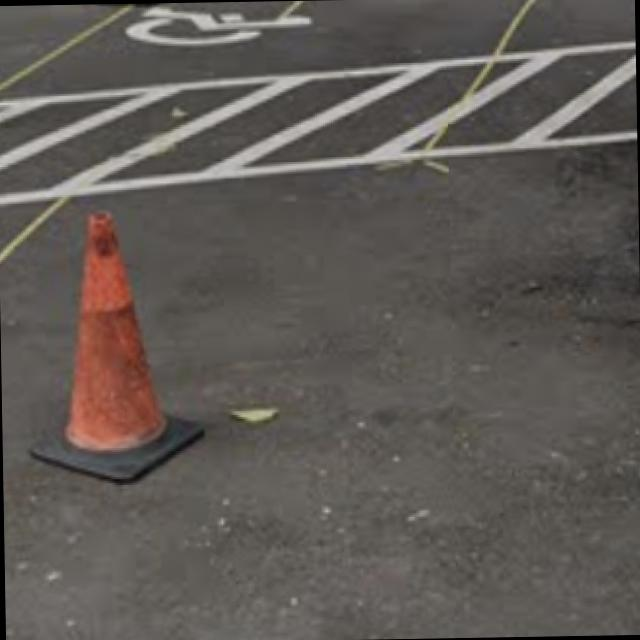cone: (39, 185, 174, 491)
